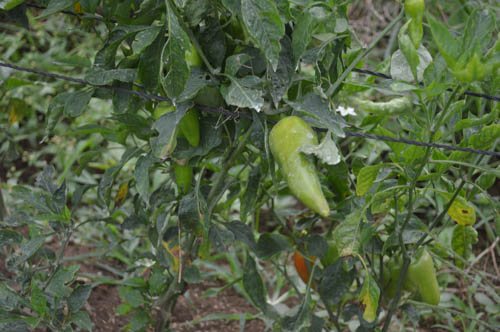ChiliPepper: (269, 117, 325, 216), (172, 41, 205, 146), (155, 104, 191, 186), (411, 251, 440, 304)
